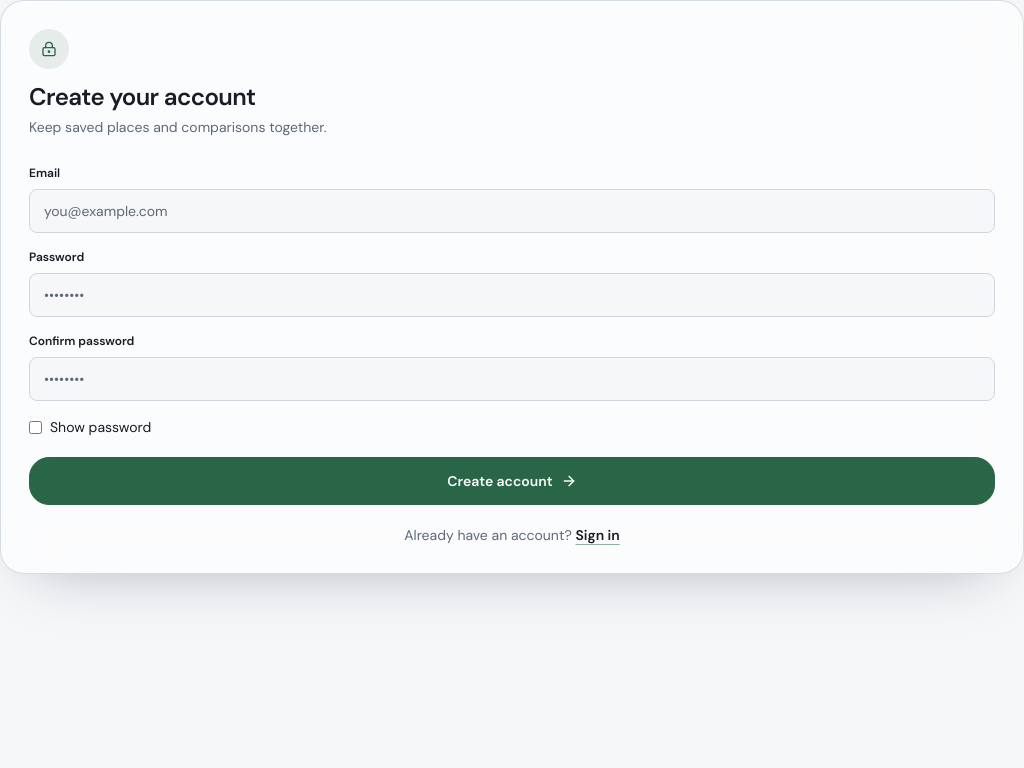
connects a mismatch error to confirmation and focuses it
Type "me@example.com" into the field named "email" at (512, 211), box [29, 189, 995, 233]
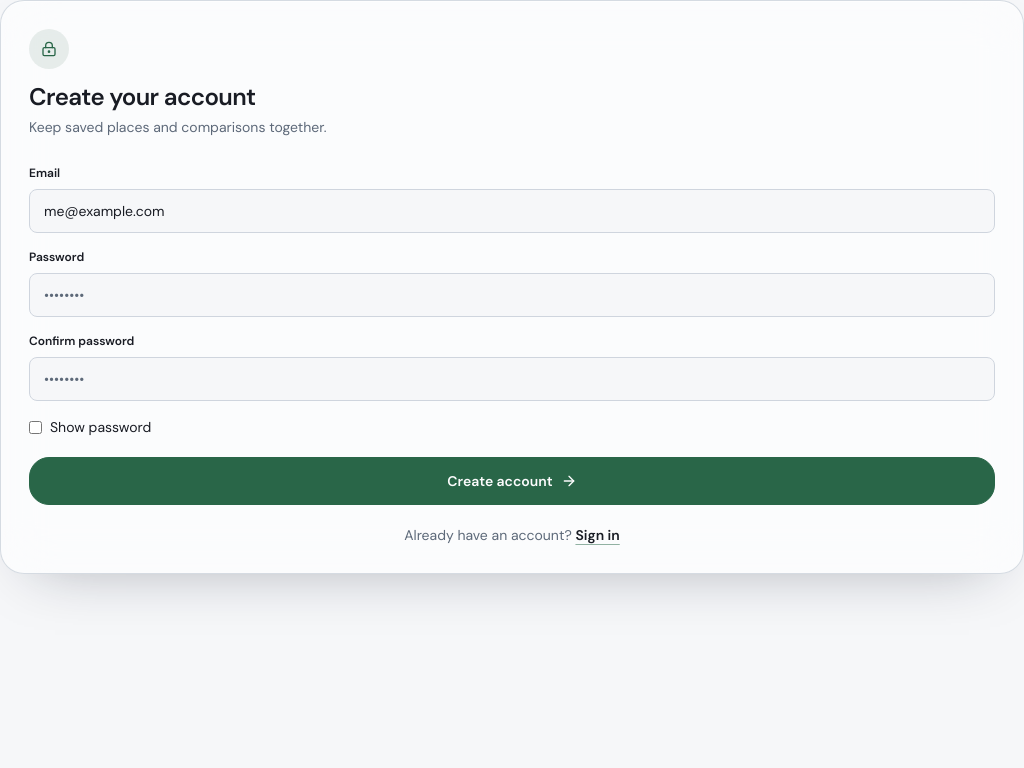
Type "valid-password" into the password field named "password" at (512, 295), box [29, 273, 995, 317]
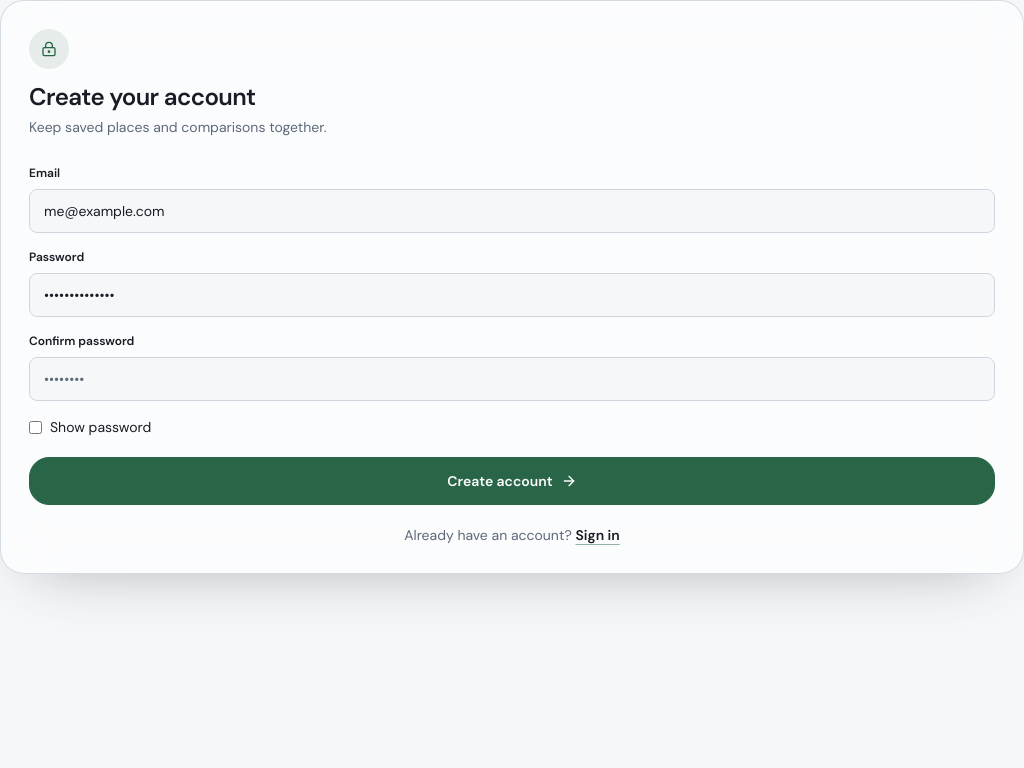
Type "other-password" into the password field named "confirm" at (512, 379), box [29, 357, 995, 401]
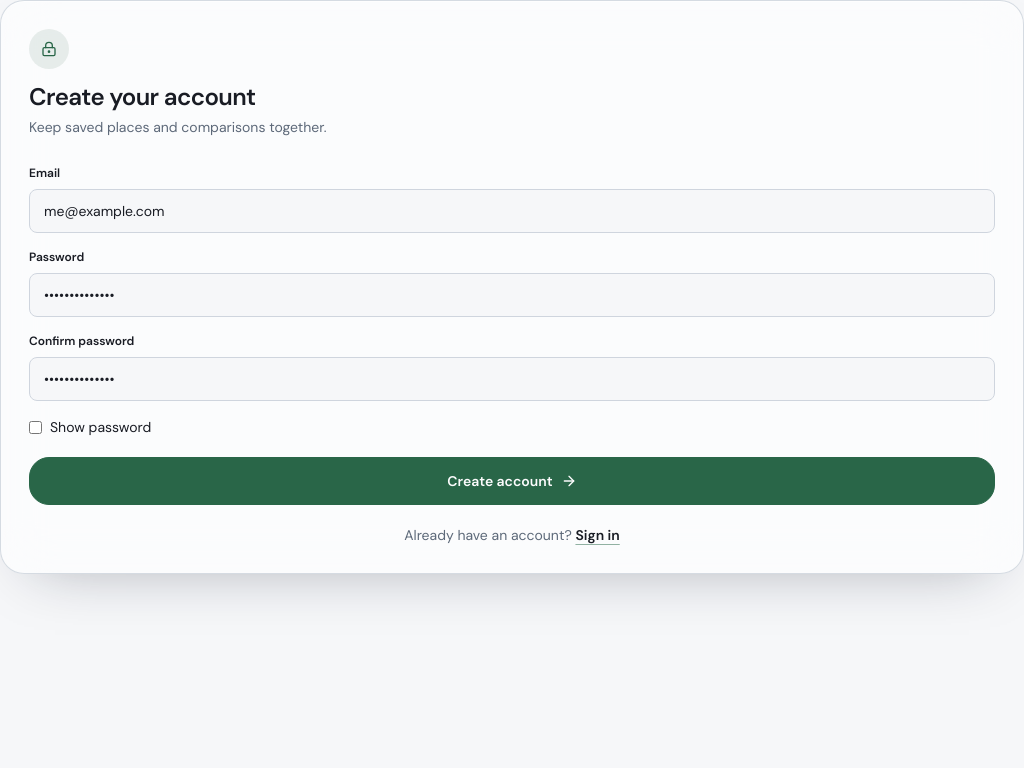
Click the button "Create account" at (512, 481), box [29, 457, 995, 505]
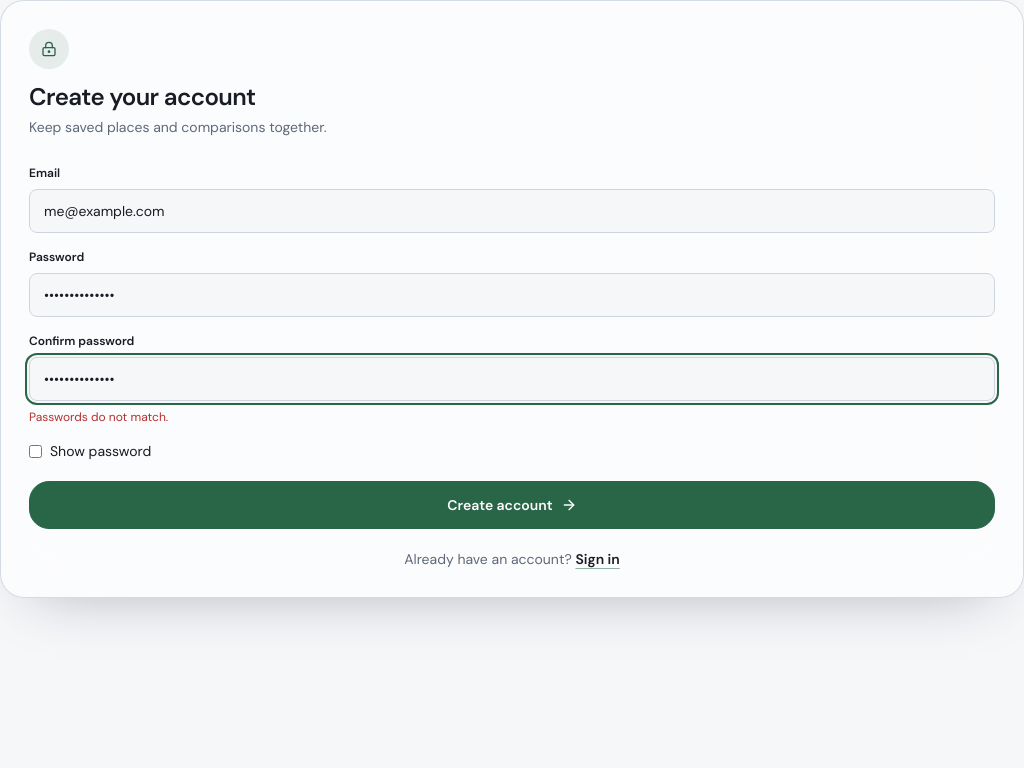
Expected: the text "Passwords do not match." is shown, [29, 409, 168, 425]
